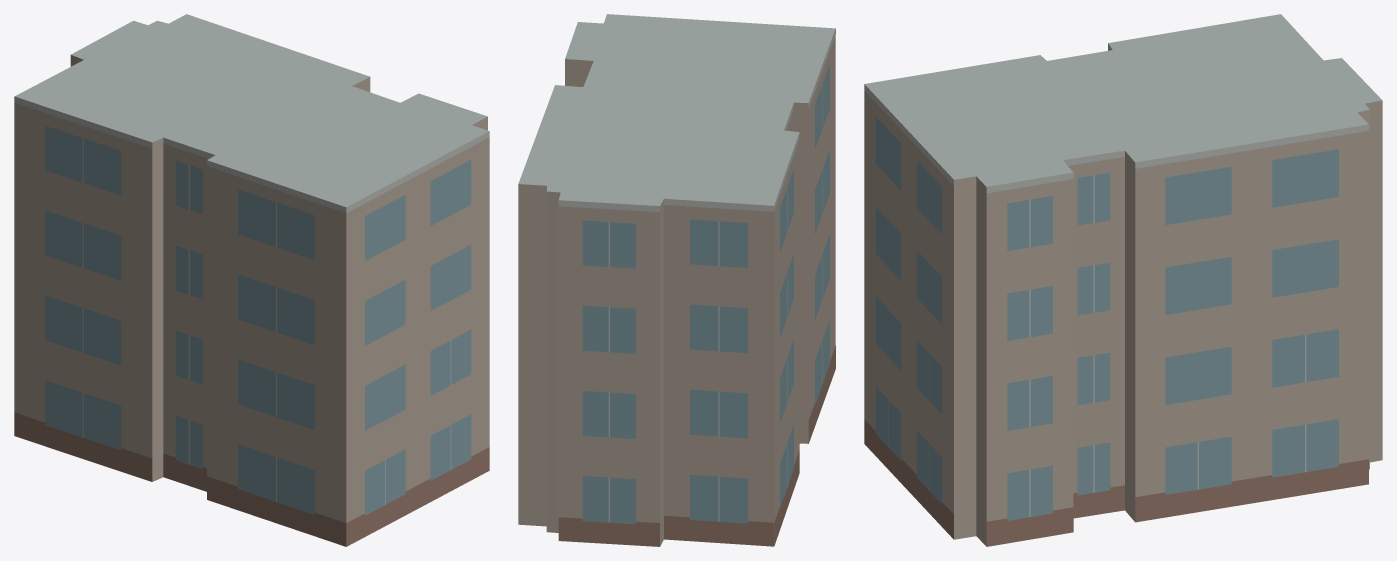
The model's file is survey-upis-32974277.glb.
3 views of the same model, side by side, from view 1: azimuth 30°, elevation 25°; view 2: azimuth 150°, elevation 25°; view 3: azimuth 270°, elevation 25° (orthographic). The views are drawn at different scales.
Parts seen in each view (by area): view 1: survey-upis-32974277.tmp; view 2: survey-upis-32974277.tmp; view 3: survey-upis-32974277.tmp.
Part boxes in pixels (x1,y1,x2,y2): survey-upis-32974277.tmp: (14, 14, 489, 546); survey-upis-32974277.tmp: (518, 14, 835, 546); survey-upis-32974277.tmp: (864, 14, 1382, 546).
Bounding box in the file's own units: 14.09 × 13.65 × 17.83.
